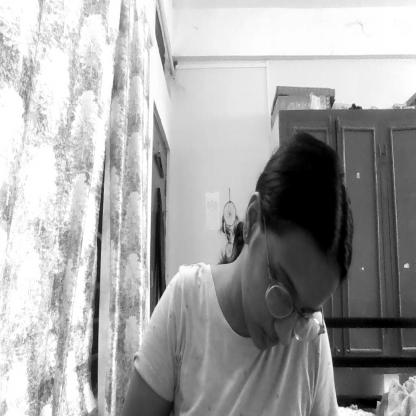Distracted: (244, 139, 343, 355)
